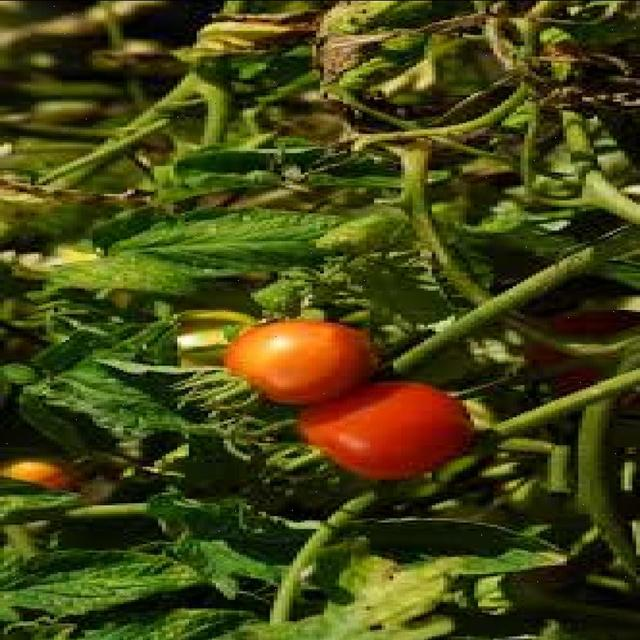Spotted wilt Virus Fruit: (112, 59, 254, 287)
